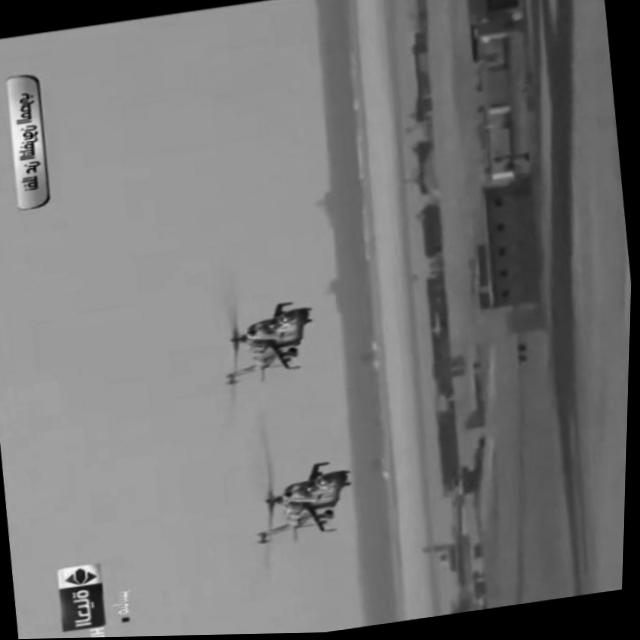helikopter: (195, 275, 341, 396), (242, 429, 367, 553)
